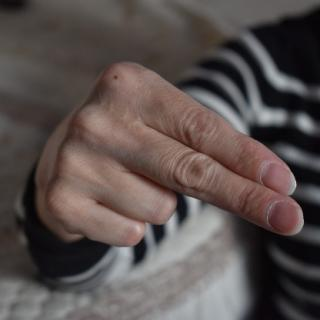AYN: (22, 51, 320, 258)
